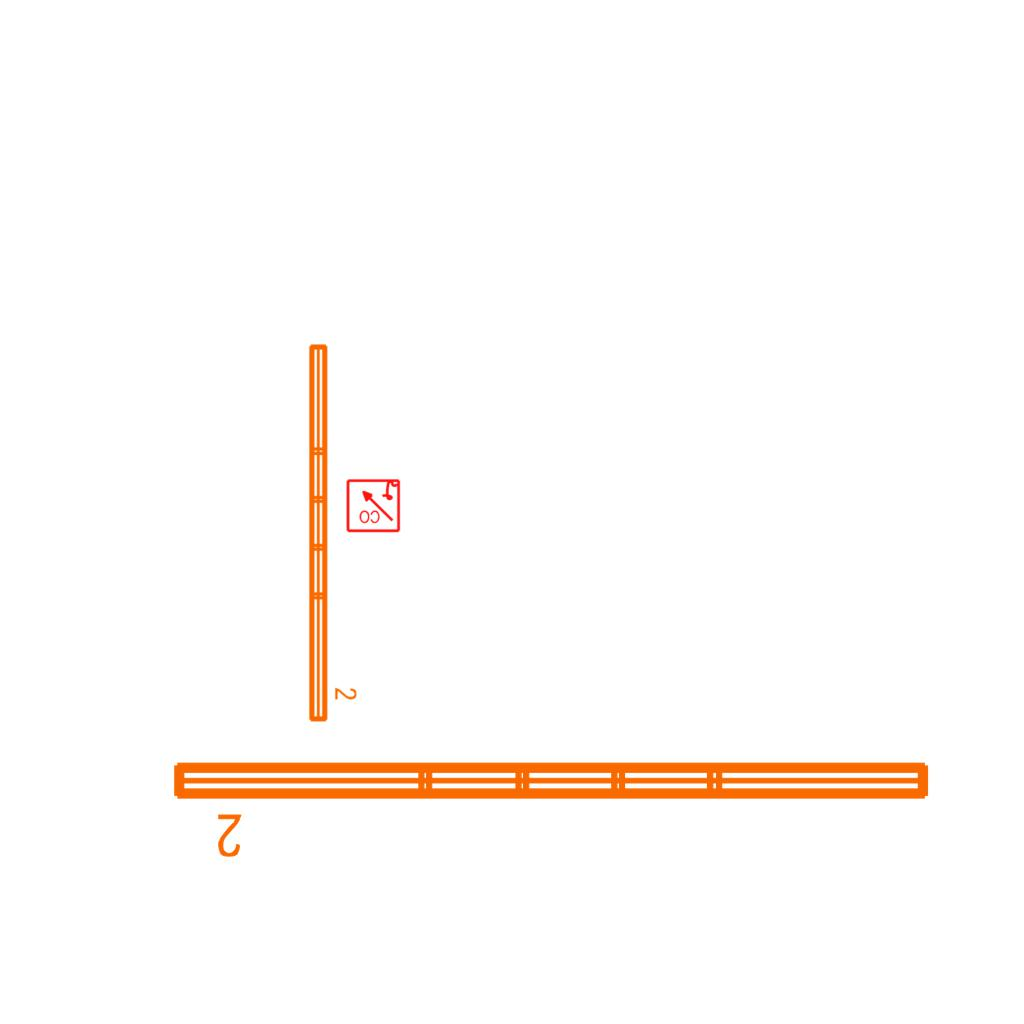Ambulanz_Pendelleuchte_LED: (165, 750, 939, 862), (303, 339, 359, 726)
ROA_Rauchmelder_optisch_mit_Signalgeber_(Sockelsirene): (345, 477, 401, 533)
